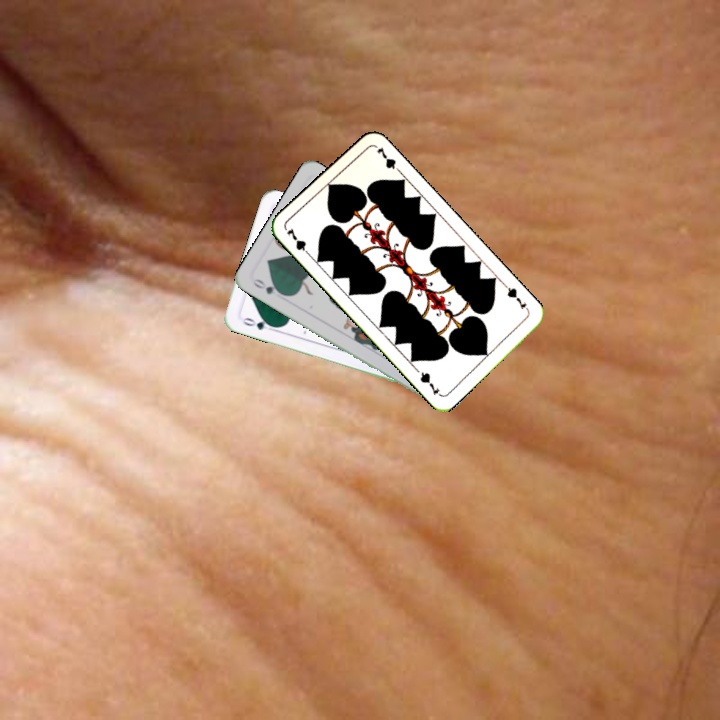G7: (282, 224, 314, 259), (501, 281, 532, 314)
GO: (249, 275, 287, 298), (238, 312, 277, 334)
